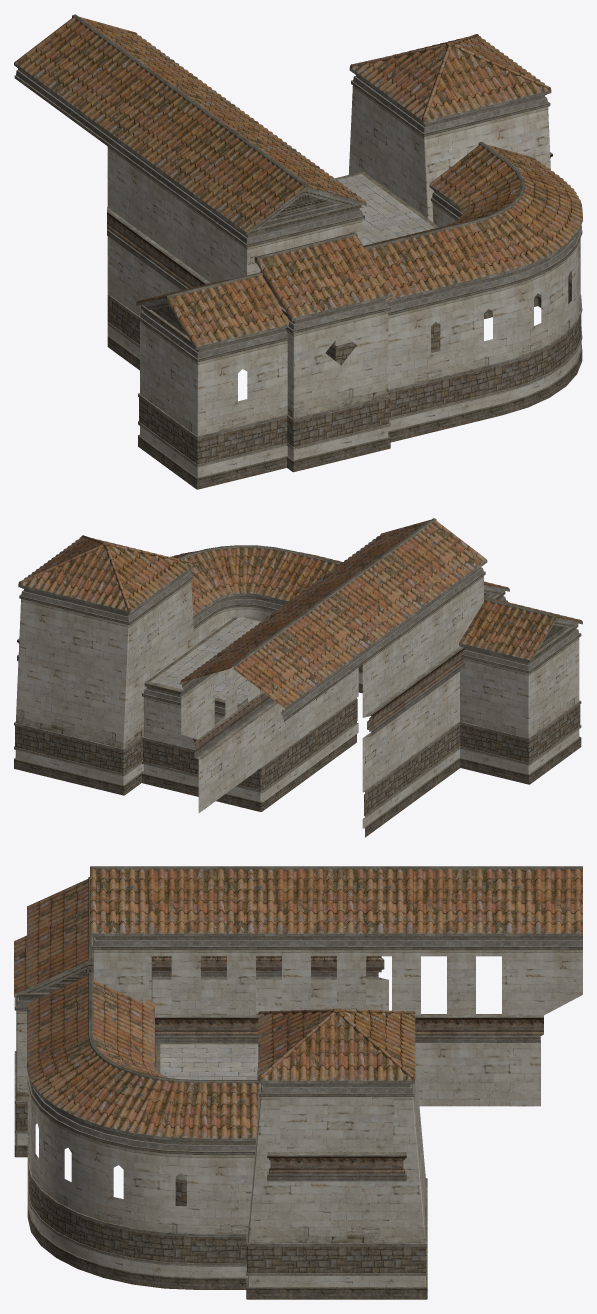
File: Tower3R.fbx
3 renders of one model, top to bottom at view 1: azimuth 30°, elevation 25°; view 2: azimuth 150°, elevation 25°; view 3: azimuth 270°, elevation 25°, orthographic. The views are drawn at different scales.
Parts seen in each view (by area): view 1: LV_Campagna_Uni_CityH3HWall_SM_CJH.001; view 2: LV_Campagna_Uni_CityH3HWall_SM_CJH.001; view 3: LV_Campagna_Uni_CityH3HWall_SM_CJH.001.
Part boxes in pixels (<box>): LV_Campagna_Uni_CityH3HWall_SM_CJH.001: <box>14,14,582,489</box>; LV_Campagna_Uni_CityH3HWall_SM_CJH.001: <box>14,518,582,837</box>; LV_Campagna_Uni_CityH3HWall_SM_CJH.001: <box>14,866,582,1299</box>.
Bounding box in the file's own units: 7.12 × 3.61 × 7.03.
20 materials, 20 textured.
